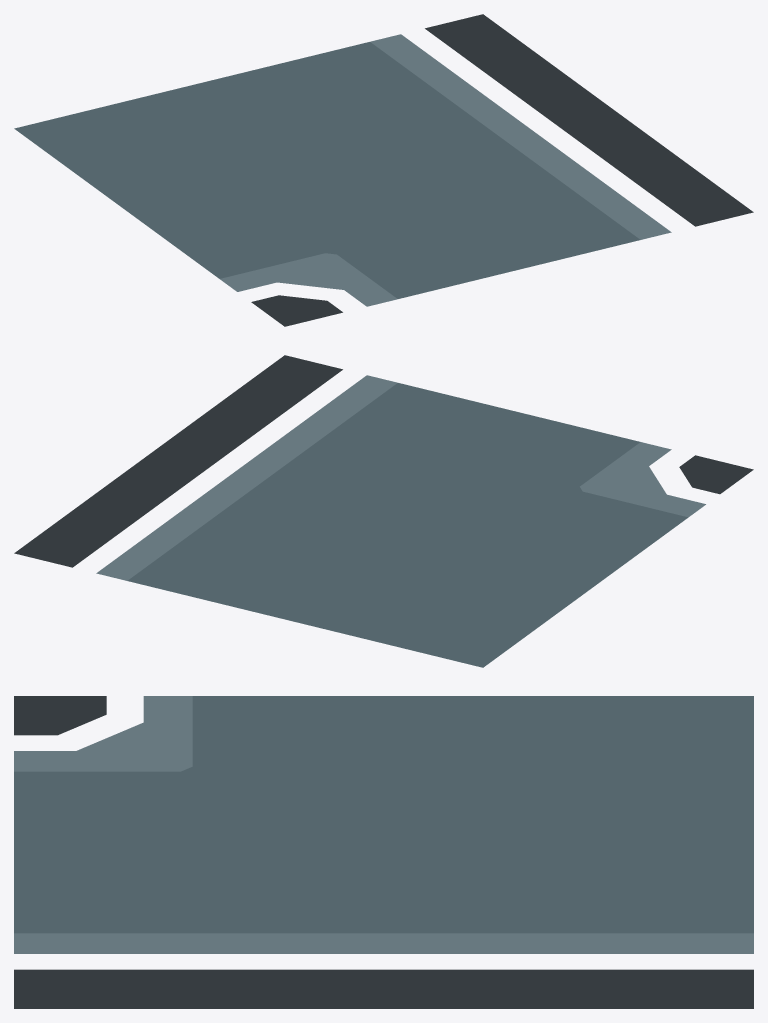
The model's file is Ceiling_type_C_026_002.glb.
3 views of the same model, one above another, from view 1: azimuth 30°, elevation 25°; view 2: azimuth 150°, elevation 25°; view 3: azimuth 270°, elevation 25° (orthographic). The views are drawn at different scales.
Parts seen in each view (by area): view 1: Ceiling_type_C_026.002; view 2: Ceiling_type_C_026.002; view 3: Ceiling_type_C_026.002.
Boxes of the visible parts, x1=… form: Ceiling_type_C_026.002: x1=14, y1=14, x2=753, y2=326; Ceiling_type_C_026.002: x1=14, y1=355, x2=753, y2=667; Ceiling_type_C_026.002: x1=14, y1=696, x2=753, y2=1008.
Bounding box in the file's own units: 4 × 0.0618 × 4.
2 materials, 2 textured.
